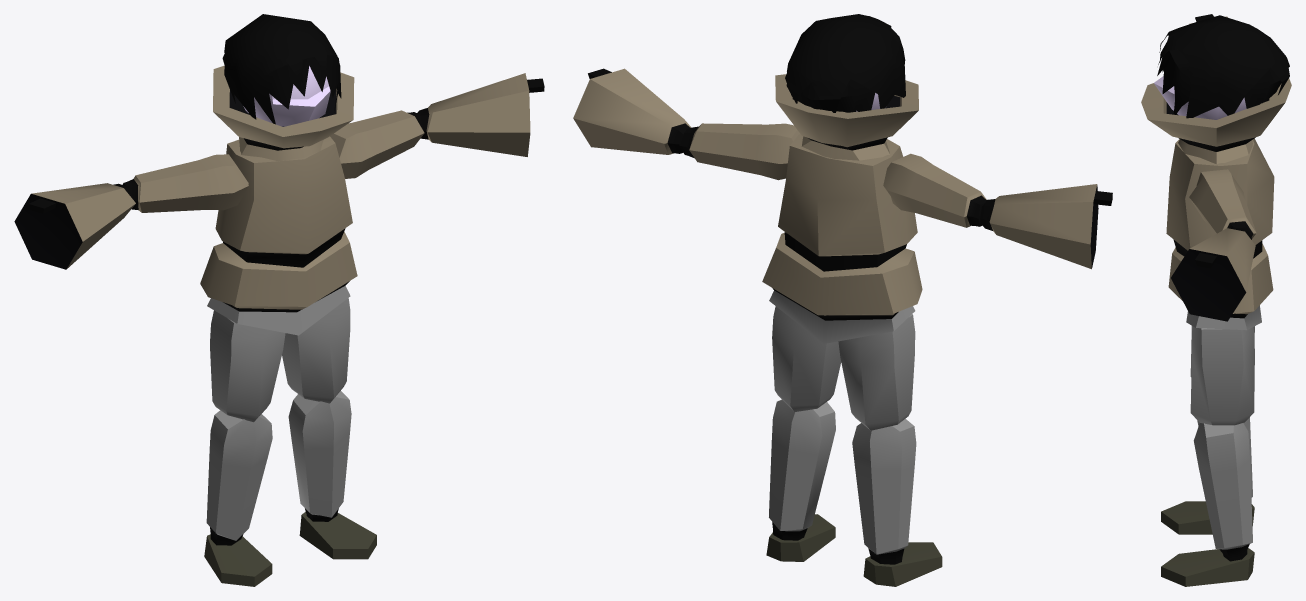
The model's file is Player.fbx.
3 renders of one model, left to right at view 1: azimuth 30°, elevation 25°; view 2: azimuth 150°, elevation 25°; view 3: azimuth 270°, elevation 25°, orthographic. The views are drawn at different scales.
Parts seen in each view (by area): view 1: chest, right_forearm, left_forearm, left_calf, right_calf, left_thigh, neck_cover, top_hair, right_shoulder, right_thigh, left_shoulder, front_hair (+3 smaller); view 2: chest, top_hair, left_calf, right_calf, right_forearm, left_forearm, left_thigh, neck_cover, right_thigh, left_shoulder, right_shoulder, left_foot (+2 smaller); view 3: chest, top_hair, right_calf, right_thigh, left_forearm, neck_cover, left_shoulder, right_foot, left_foot, front_hair, back_hair, head (+1 smaller).
Part boxes in pixels (<box>): chest: <box>200,136,357,335</box>; right_forearm: <box>14,183,135,269</box>; left_forearm: <box>417,73,544,156</box>; left_calf: <box>206,410,272,545</box>; right_calf: <box>288,391,351,521</box>; left_thigh: <box>210,310,285,422</box>; neck_cover: <box>213,65,354,161</box>; top_hair: <box>224,14,341,119</box>; right_shoulder: <box>122,154,248,212</box>; right_thigh: <box>282,298,350,403</box>; left_shoulder: <box>330,110,424,178</box>; front_hair: <box>253,47,340,124</box>; chest: <box>762,134,922,343</box>; top_hair: <box>786,14,905,112</box>; left_calf: <box>852,419,916,564</box>; right_calf: <box>769,399,835,540</box>; right_forearm: <box>980,184,1112,269</box>; left_forearm: <box>573,68,691,154</box>; left_thigh: <box>838,314,915,430</box>; neck_cover: <box>775,74,918,160</box>; right_thigh: <box>772,306,841,411</box>; left_shoulder: <box>679,123,800,180</box>; right_shoulder: <box>883,153,986,227</box>; left_foot: <box>863,542,942,586</box>; chest: <box>1166,138,1274,330</box>; top_hair: <box>1159,15,1289,118</box>; right_calf: <box>1193,423,1252,561</box>; right_thigh: <box>1190,326,1254,425</box>; left_forearm: <box>1171,227,1255,321</box>; neck_cover: <box>1141,78,1291,163</box>; left_shoulder: <box>1189,169,1256,239</box>; right_foot: <box>1161,548,1254,586</box>; left_foot: <box>1161,501,1254,534</box>; front_hair: <box>1157,35,1193,114</box>; back_hair: <box>1244,67,1281,108</box>; head: <box>1154,76,1246,119</box>.
Size of the model in its own units: 1130 by 1114 by 289.
